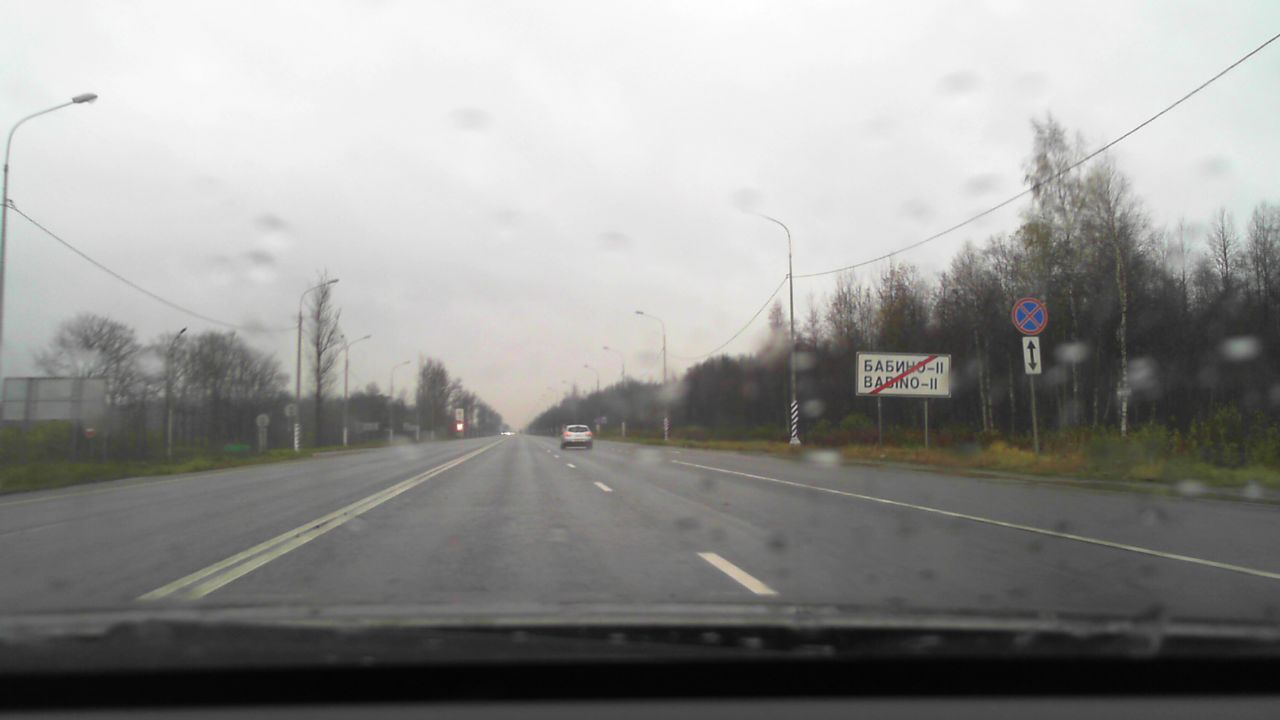No Parking: (1011, 297, 1048, 334)
